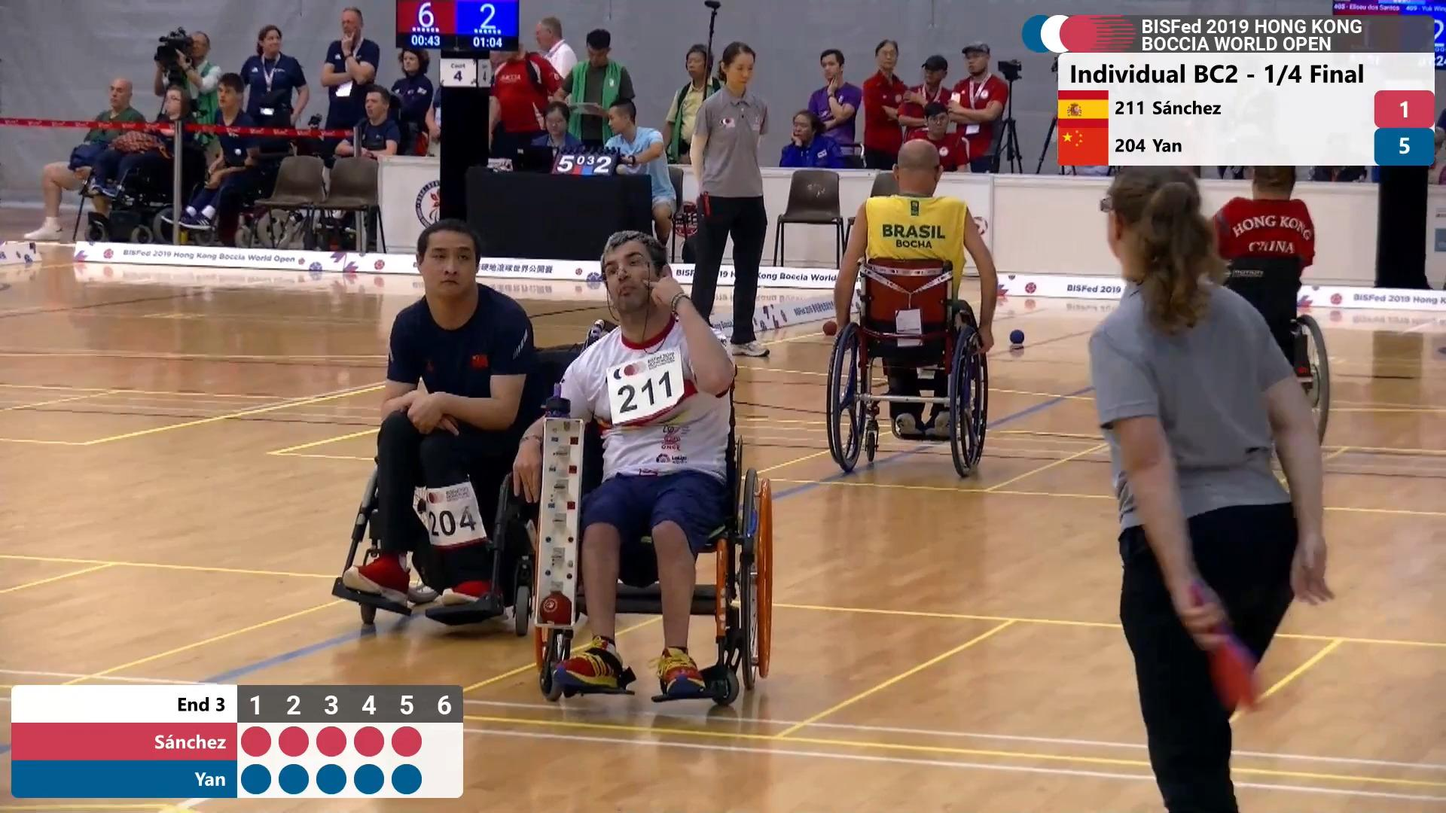blue_ball: (1009, 329, 1025, 345)
red_ball: (536, 587, 573, 628), (821, 319, 839, 339)
